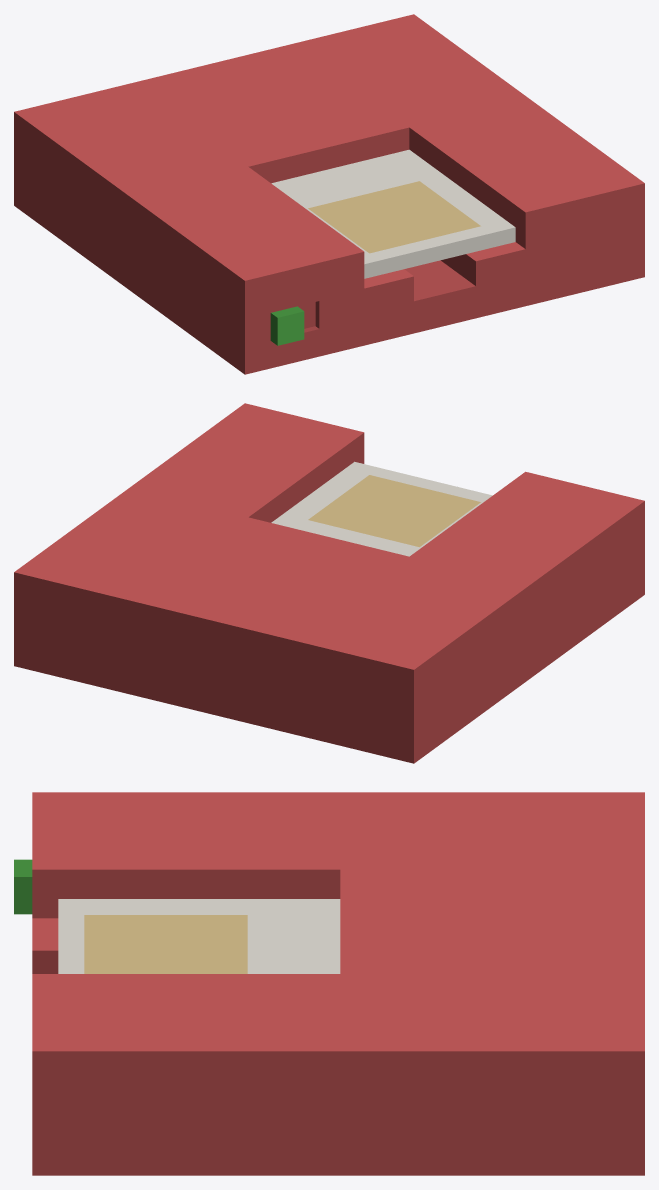
File: game_console.fbx
3 views of the same model, one above another, from view 1: azimuth 30°, elevation 25°; view 2: azimuth 150°, elevation 25°; view 3: azimuth 270°, elevation 25° (orthographic). The views are drawn at different scales.
Parts seen in each view (by area): view 1: pCube193; view 2: pCube193; view 3: pCube193.
Part boxes in pixels (<box>): pCube193: <box>14,14,644,374</box>; pCube193: <box>14,403,644,763</box>; pCube193: <box>14,792,644,1175</box>.
Bounding box in the file's own units: 2.36e-05 × 5.3e-06 × 2.43e-05.
